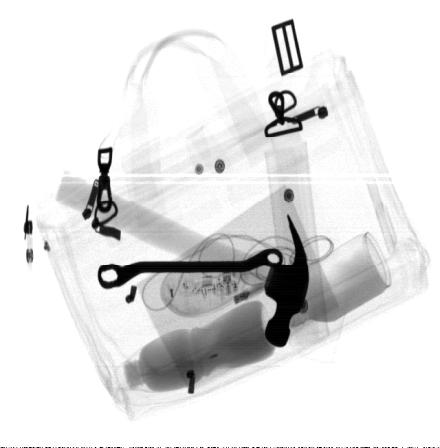Hammer: (56, 168, 310, 348)
Wrench: (98, 248, 283, 290)
